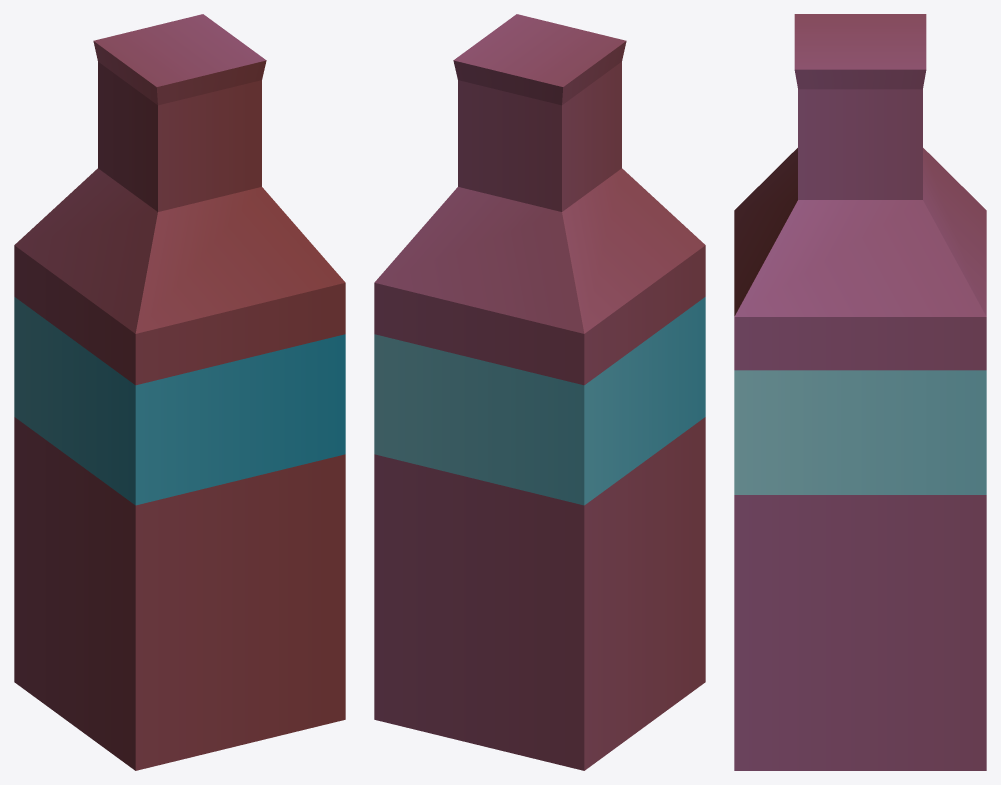
Rendered from B01_bouteille_3_b.fbx.
3 renders of one model, left to right at view 1: azimuth 30°, elevation 25°; view 2: azimuth 150°, elevation 25°; view 3: azimuth 270°, elevation 25°, orthographic. The views are drawn at different scales.
Parts seen in each view (by area): view 1: B01_bouteille_3_b; view 2: B01_bouteille_3_b; view 3: B01_bouteille_3_b.
Boxes of the visible parts, box(x1,y1,x2,y2) form: B01_bouteille_3_b: box(14, 14, 345, 770); B01_bouteille_3_b: box(374, 14, 705, 770); B01_bouteille_3_b: box(734, 14, 986, 770).
Bounding box in the file's own units: 8.44 × 24.97 × 8.44.
